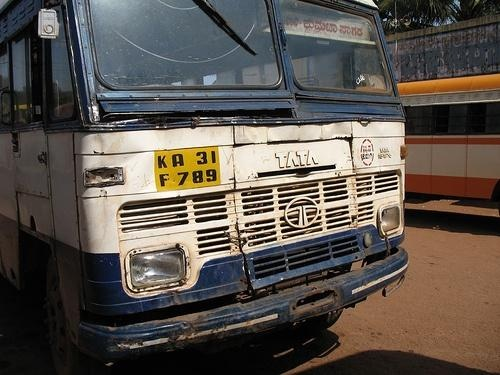bus: (3, 2, 409, 374), (397, 74, 500, 216)
